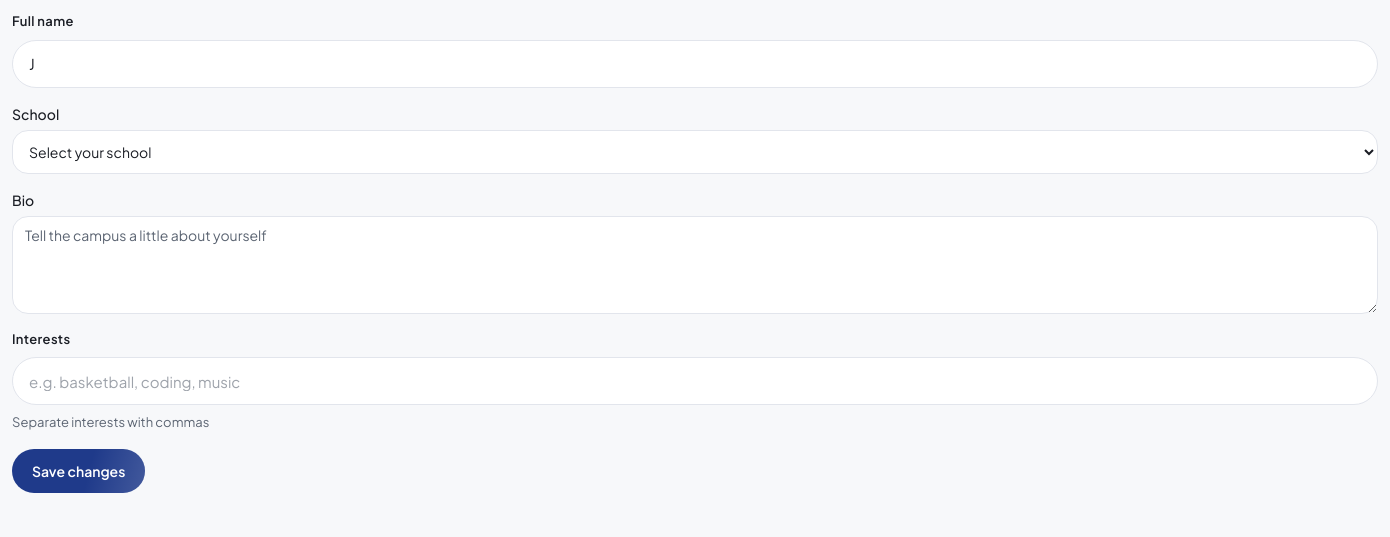
Scenario: ProfileForm › blocks submit and shows an error when the name is too short
What coordinates should you click on to do the following:
click the button "Save changes"
I would click on:
 (79, 470)
Its box is [12, 448, 145, 492].
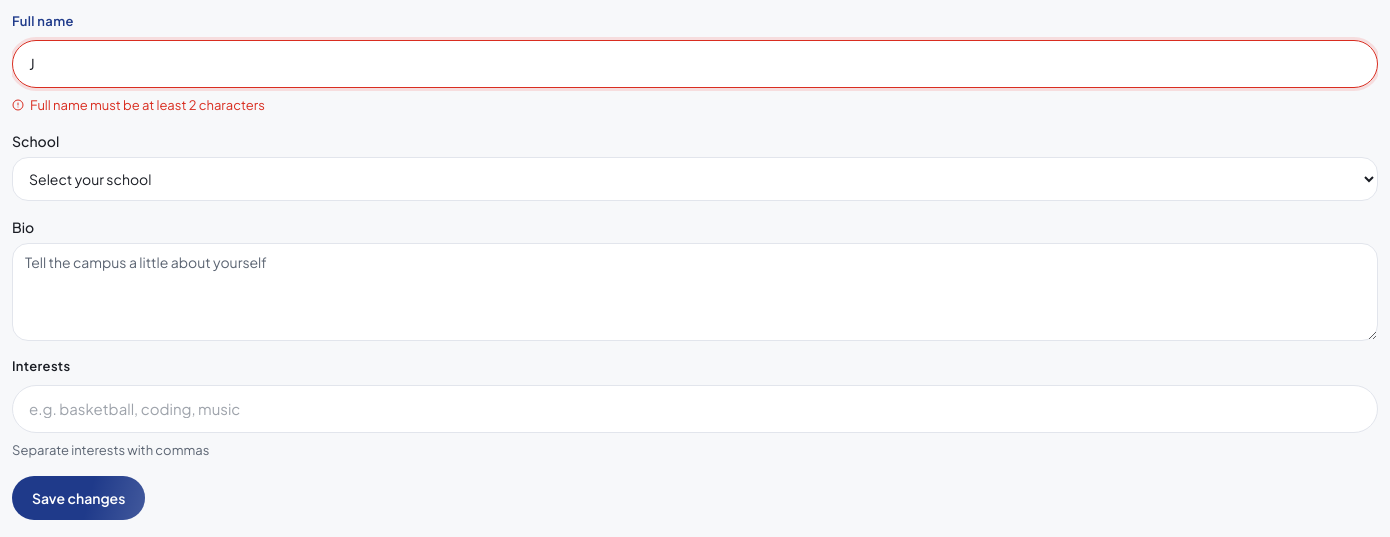
expect the text "Full name must be at least 2 characters" is shown: met, box [12, 96, 265, 112]
